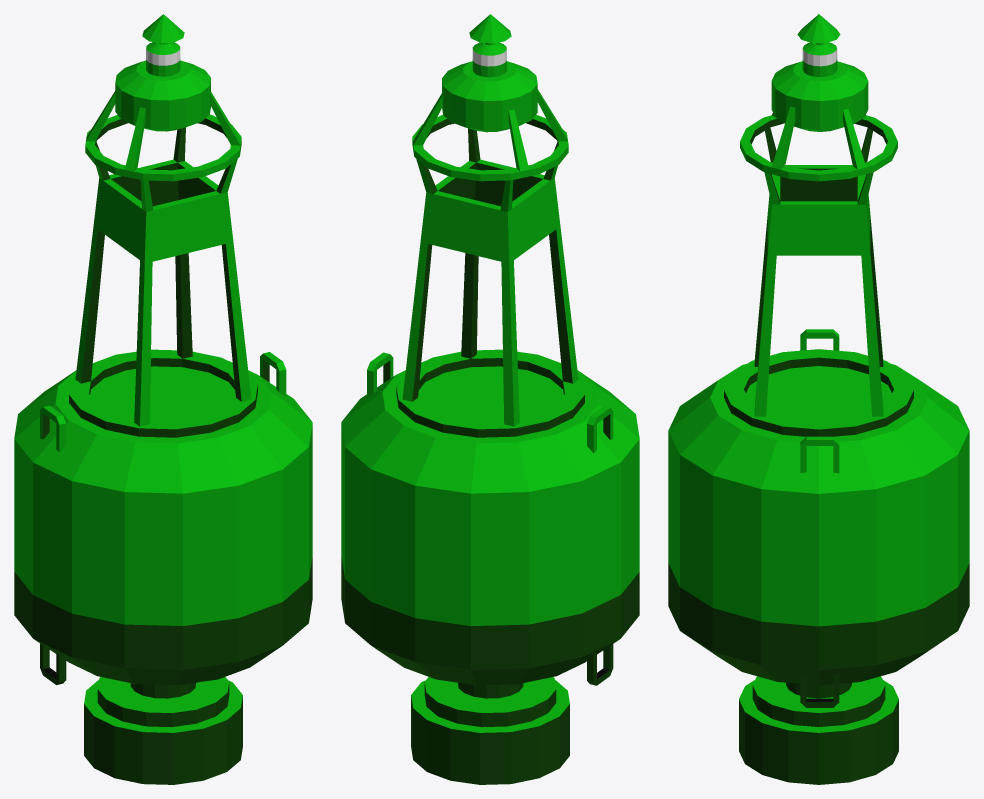
File: marine-buoy-optimized.glb
3 views of the same model, side by side, from view 1: azimuth 30°, elevation 25°; view 2: azimuth 150°, elevation 25°; view 3: azimuth 270°, elevation 25° (orthographic).
Visible parts, largest first — view 1: buoy_lowpoly; view 2: buoy_lowpoly; view 3: buoy_lowpoly.
Part boxes in pixels (x1,y1,x2,y2): buoy_lowpoly: [14, 14, 312, 784]; buoy_lowpoly: [341, 14, 639, 784]; buoy_lowpoly: [668, 14, 969, 784].
Bounding box in the file's own units: 5.95 × 16.08 × 5.95.
1 material, 1 textured.
